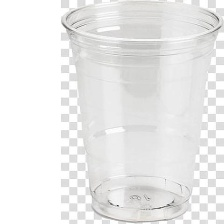glass: (61, 0, 224, 224)
